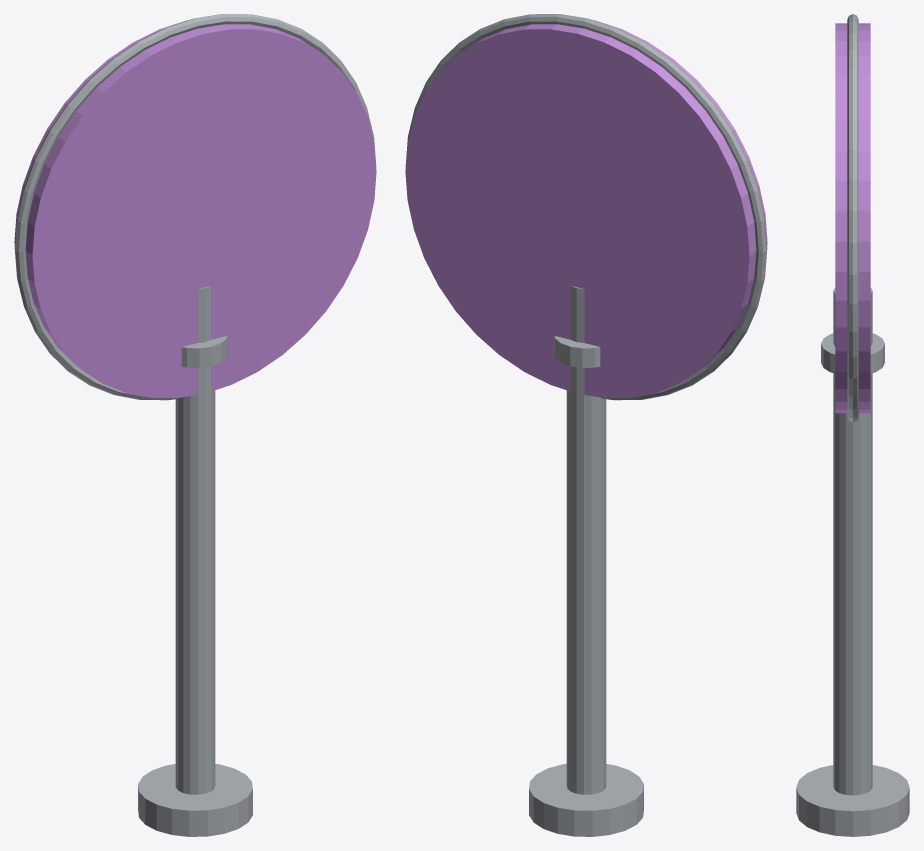
The model's file is state-fair-pin-family-baby-care.glb.
3 views of the same model, side by side, from view 1: azimuth 30°, elevation 25°; view 2: azimuth 150°, elevation 25°; view 3: azimuth 270°, elevation 25° (orthographic).
Parts seen in each view (by area): view 1: SFPIN_SignDisc, SFPIN_Post, SFPIN_Rim, SFPIN_Base, SFPIN_Collar; view 2: SFPIN_SignDisc, SFPIN_Post, SFPIN_Rim, SFPIN_Base, SFPIN_Collar; view 3: SFPIN_Post, SFPIN_SignDisc, SFPIN_Base, SFPIN_Rim, SFPIN_Collar.
Boxes of the visible parts, x1,y1,x2,y2 form: SFPIN_SignDisc: [14, 20, 376, 397]; SFPIN_Post: [175, 286, 215, 794]; SFPIN_Rim: [14, 14, 376, 400]; SFPIN_Base: [138, 764, 252, 836]; SFPIN_Collar: [181, 336, 227, 367]; SFPIN_SignDisc: [405, 20, 767, 397]; SFPIN_Post: [566, 286, 606, 794]; SFPIN_Rim: [405, 14, 767, 400]; SFPIN_Base: [529, 764, 643, 836]; SFPIN_Collar: [554, 336, 600, 367]; SFPIN_Post: [833, 287, 872, 795]; SFPIN_SignDisc: [835, 23, 870, 413]; SFPIN_Base: [796, 765, 909, 836]; SFPIN_Rim: [847, 14, 858, 422]; SFPIN_Collar: [821, 333, 884, 373].
Bounding box in the file's own units: 1.15 × 2.43 × 0.32.
